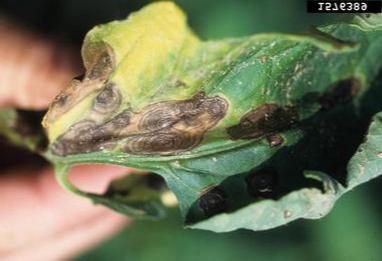Tomato Early blight leaf: (44, 15, 382, 232)
